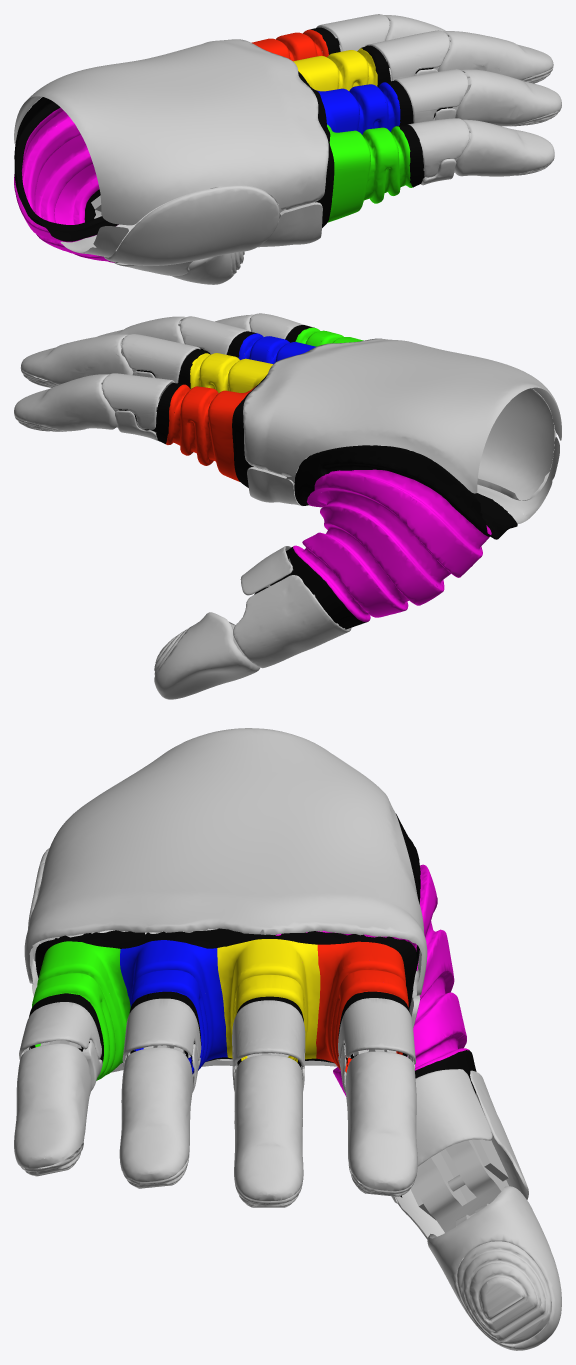
The model's file is festh3_test7.obj.
The picture shows the model from 3 angles, top to bottom: view 1: azimuth 30°, elevation 25°; view 2: azimuth 150°, elevation 25°; view 3: azimuth 270°, elevation 25°; orthographic projection. The views are drawn at different scales.
Parts seen in each view (by area): view 1: palm_1_part_25, gofra_1_part_12, gofra_2_patr_6, rubber_1_part_23, part_8, part_7, part_9, palm_1_part_24, falangi_2_part_15, falangi_2_part_17, falangi_2_part_13, falangi_2_part_19 (+4 smaller); view 2: palm_1_part_25, gofra_2_patr_6, gofra_1_part_12, rubber_1_part_23, falangi_2_part_21, part_11, part_10, part_9, palm_1_part_24, falangi_2_part_19, falangi_2_part_17, falangi_2_part_15 (+4 smaller); view 3: palm_1_part_25, gofra_1_part_12, part_9, part_10, part_8, part_7, gofra_2_patr_6, part_5, part_11, part_35, falangi_2_part_22, falangi_2_part_17 (+5 smaller).
Boxes of the visible parts, <box> form: palm_1_part_25: <box>14,39,328,225</box>; gofra_1_part_12: <box>251,27,452,227</box>; gofra_2_patr_6: <box>14,97,118,262</box>; rubber_1_part_23: <box>104,185,284,265</box>; part_8: <box>455,69,561,126</box>; part_7: <box>454,119,554,176</box>; part_9: <box>437,31,553,80</box>; palm_1_part_24: <box>60,188,322,257</box>; falangi_2_part_15: <box>394,69,468,122</box>; falangi_2_part_17: <box>369,30,449,80</box>; falangi_2_part_13: <box>408,118,469,177</box>; falangi_2_part_19: <box>316,14,389,51</box>; palm_1_part_25: <box>243,338,561,493</box>; gofra_2_patr_6: <box>254,445,517,629</box>; gofra_1_part_12: <box>118,325,363,487</box>; rubber_1_part_23: <box>257,388,556,500</box>; falangi_2_part_21: <box>233,575,351,668</box>; part_11: <box>154,612,259,699</box>; part_10: <box>14,374,117,431</box>; part_9: <box>20,334,133,384</box>; palm_1_part_24: <box>247,437,559,523</box>; falangi_2_part_19: <box>102,373,174,429</box>; falangi_2_part_17: <box>121,334,200,383</box>; falangi_2_part_15: <box>180,316,249,354</box>; palm_1_part_25: <box>24,728,427,995</box>; gofra_1_part_12: <box>29,928,416,1080</box>; part_9: <box>234,1055,303,1201</box>; part_10: <box>345,1051,417,1191</box>; part_8: <box>119,1047,192,1182</box>; part_7: <box>14,1043,91,1168</box>; gofra_2_patr_6: <box>233,814,476,1197</box>; part_5: <box>457,1241,550,1344</box>; part_11: <box>427,1186,561,1350</box>; part_35: <box>410,1139,508,1232</box>; falangi_2_part_22: <box>391,1069,492,1203</box>; falangi_2_part_17: <box>232,1000,305,1069</box>.
Bounding box in the file's own units: 155 × 90.79 × 102.
